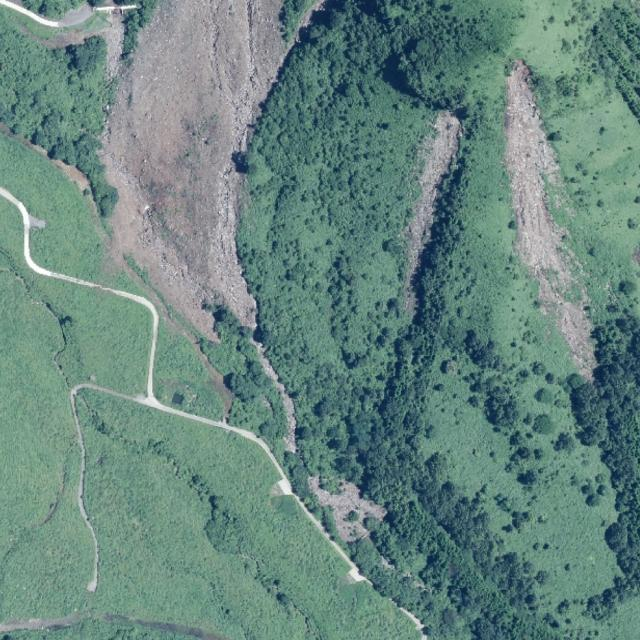landslide: (102, 0, 288, 340), (502, 60, 597, 380), (403, 111, 462, 314), (489, 460, 560, 573), (311, 478, 386, 543)
